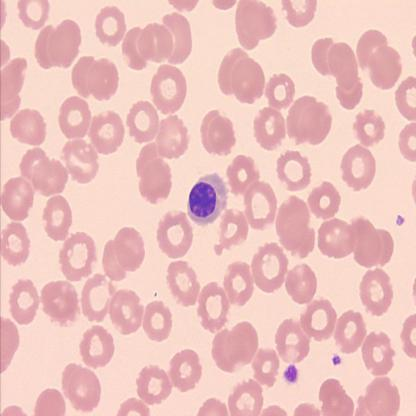NRC: (185, 172, 228, 227)
